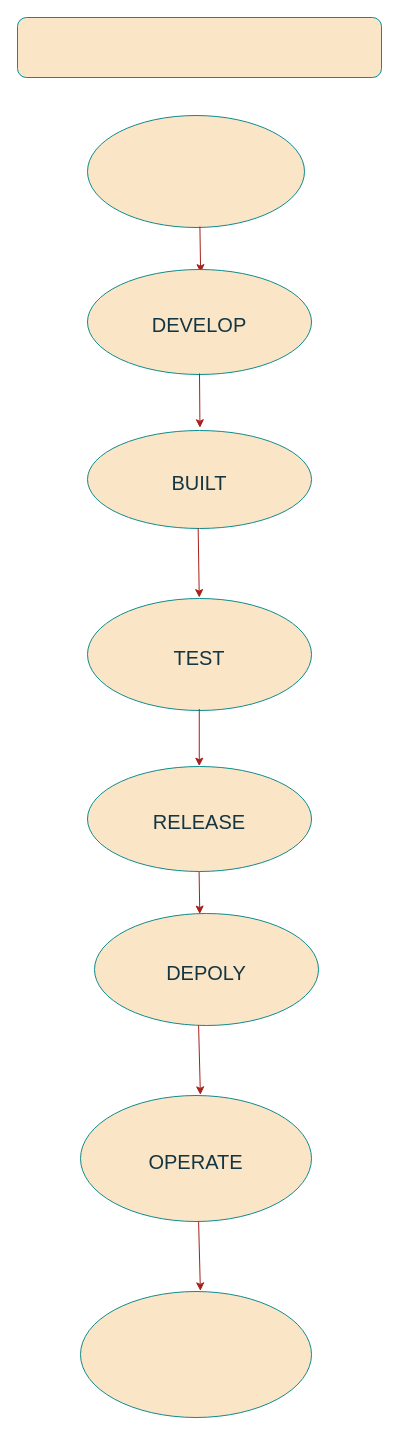
This 399x1435 diagram has some shape labels left out. Each missing label, with the centre of its shape:
"DevOps Life Cycle" belongs at (x=199, y=47).
"MONITOR" belongs at (x=196, y=1354).
"PLAN" belongs at (x=195, y=171).
